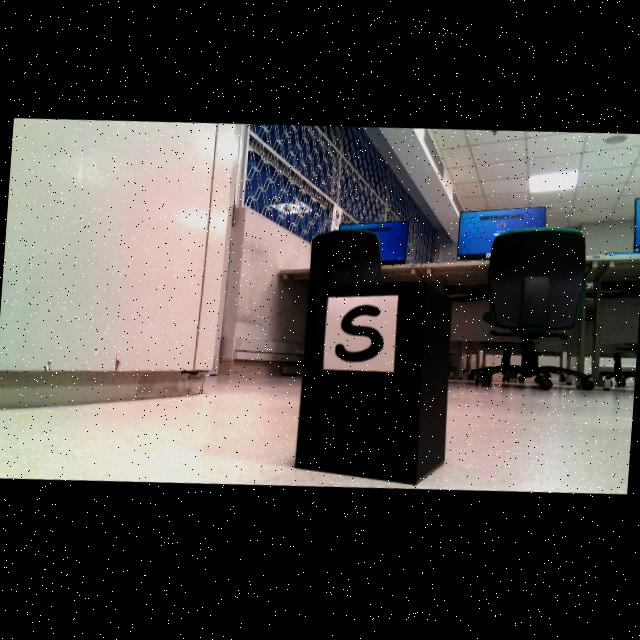S: (335, 309, 382, 364)
